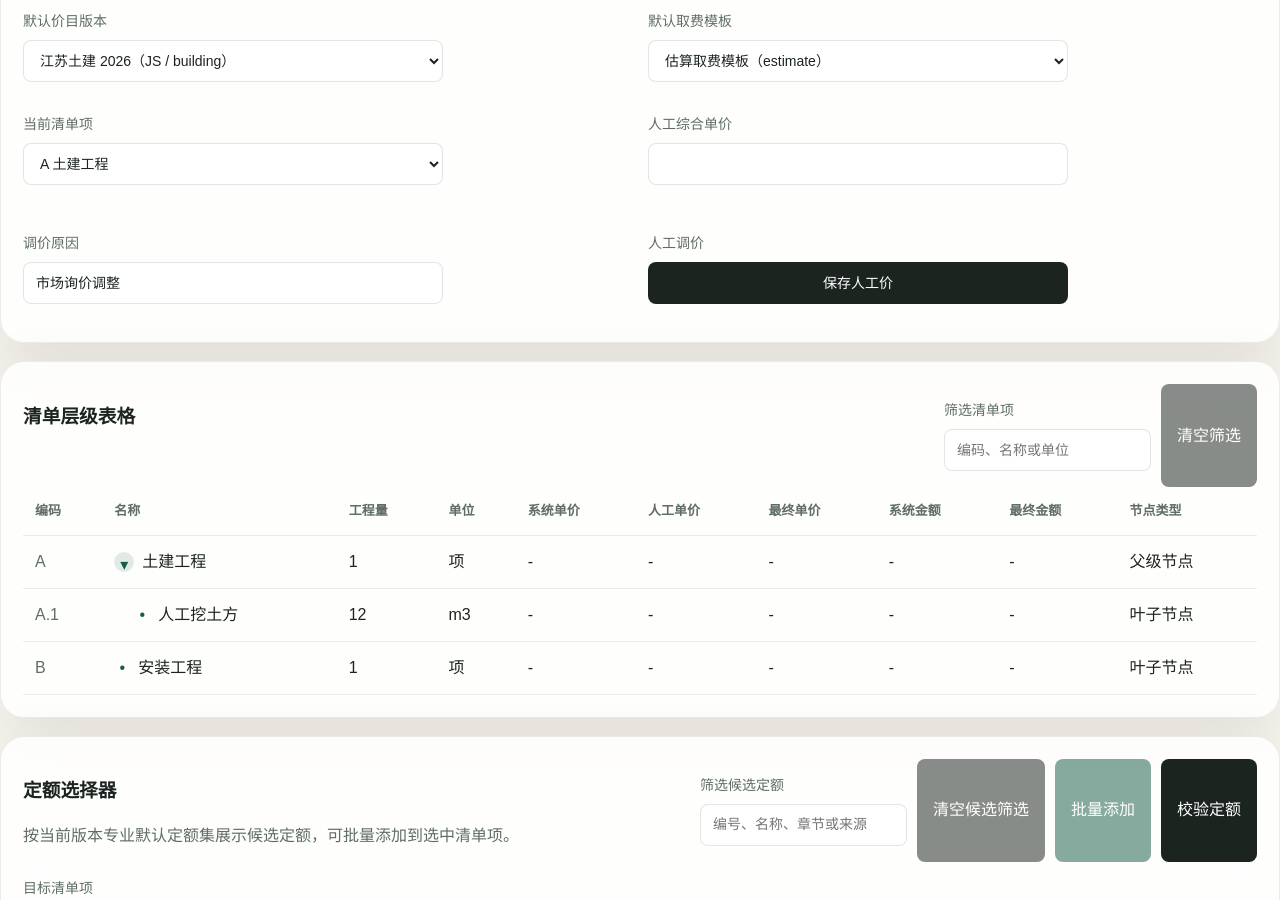
it: BillItemsPage › filters bill items by code or name
(page scrolled)
Expected: the heading "清单层级表格" is shown, [23, 403, 135, 431]
In the field labelled "筛选清单项": {"x": 1048, "y": 450} [944, 429, 1151, 471], type "挖土"
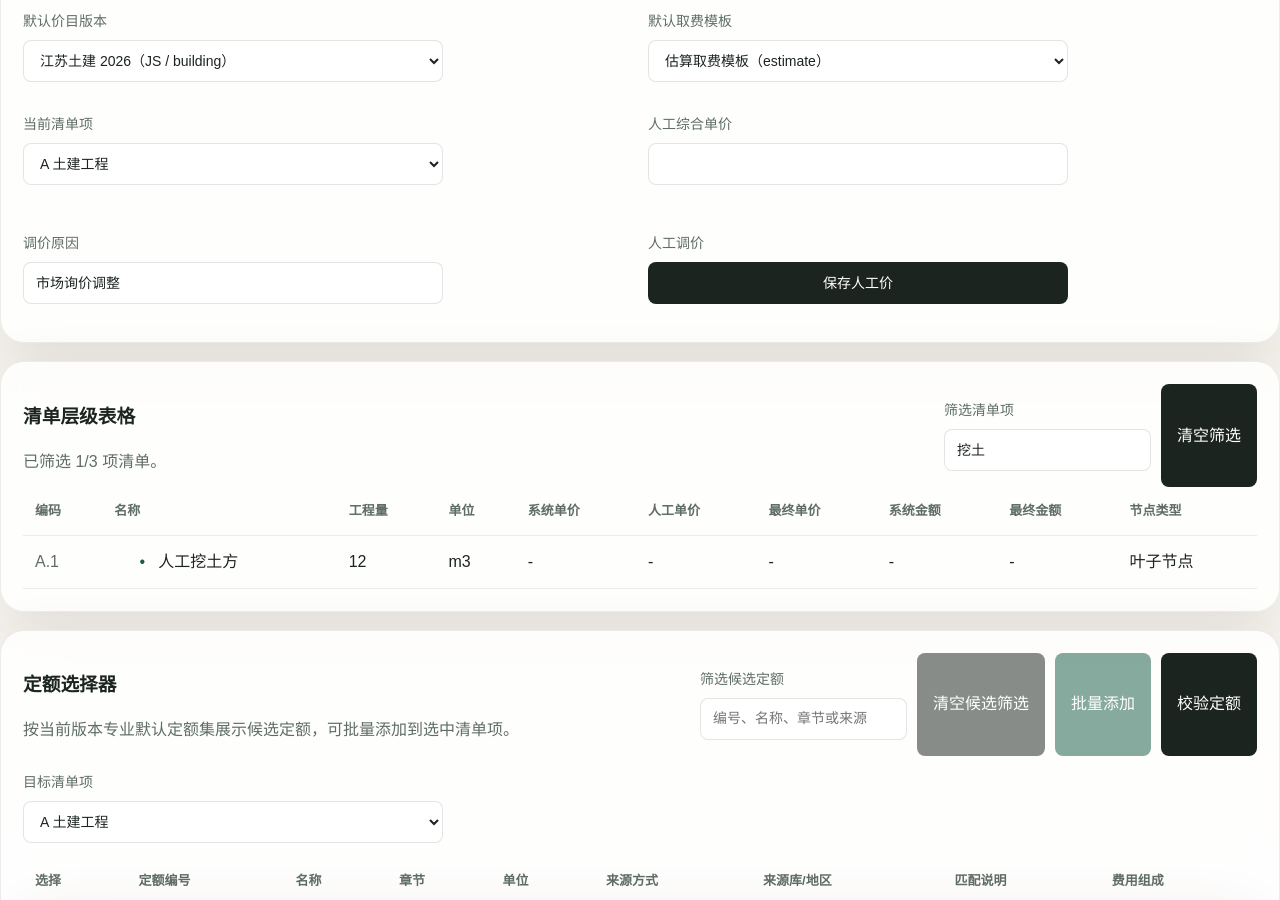
Expected: the text "人工挖土方" is shown, [158, 550, 238, 574]
Result: the text "已筛选 1/3 项清单。" is shown at [23, 450, 166, 474]
Result: the text "安装工程" is gone
Click the button "清空筛选": {"x": 1209, "y": 436} [1161, 384, 1257, 487]
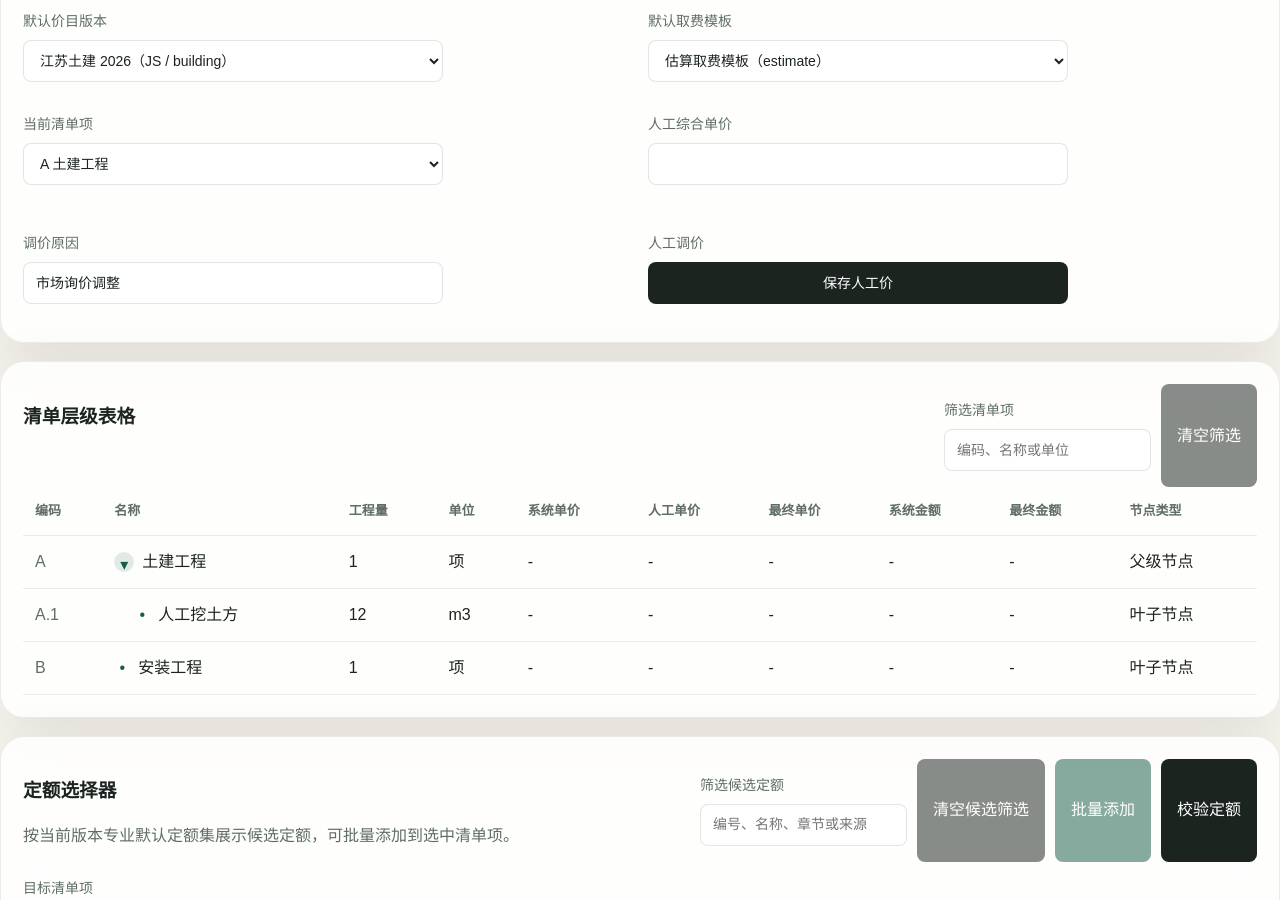
Result: the text "安装工程" is shown at [138, 656, 202, 680]
